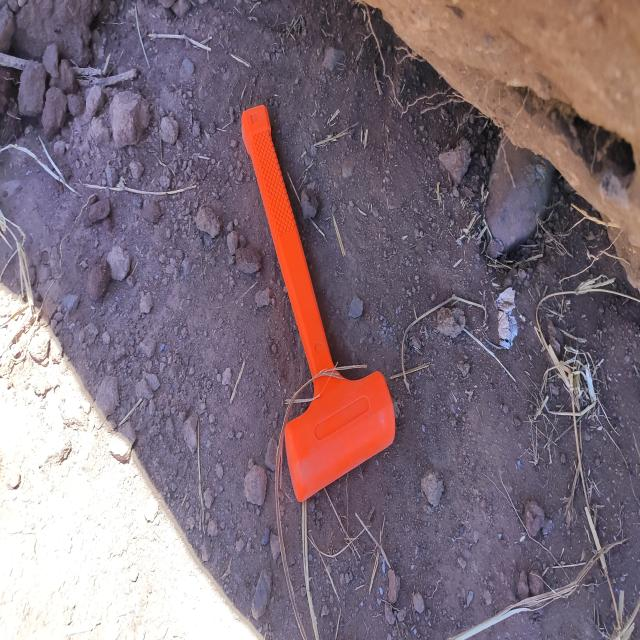Orange_hammer: (240, 102, 396, 504)
